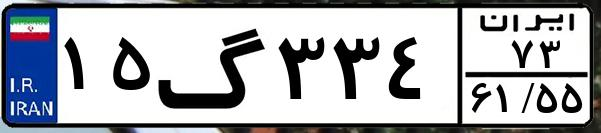1: (57, 26, 110, 100), (495, 70, 520, 125)
3: (270, 28, 330, 110), (330, 28, 385, 110), (537, 27, 568, 80)
4: (385, 28, 445, 110)
5: (110, 28, 156, 98), (560, 70, 590, 125), (535, 70, 560, 125)
6: (470, 70, 495, 125)
7: (508, 27, 537, 80)
گ: (156, 12, 270, 120)
